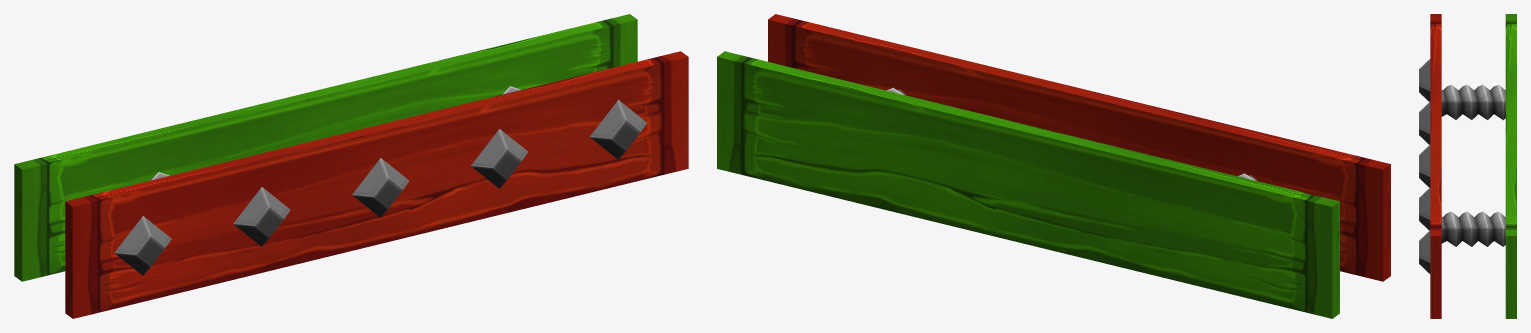
File: fence_burger_03.fbx
The picture shows the model from 3 angles, left to right: view 1: azimuth 30°, elevation 25°; view 2: azimuth 150°, elevation 25°; view 3: azimuth 270°, elevation 25°; orthographic projection. The views are drawn at different scales.
Parts seen in each view (by area): view 1: fence_burger_03; view 2: fence_burger_03; view 3: fence_burger_03.
Boxes of the visible parts, x1=… form: fence_burger_03: x1=14, y1=14, x2=688, y2=318; fence_burger_03: x1=717, y1=14, x2=1390, y2=318; fence_burger_03: x1=1419, y1=14, x2=1516, y2=318.
Size of the model in its own units: 230 by 40 by 42.85.
